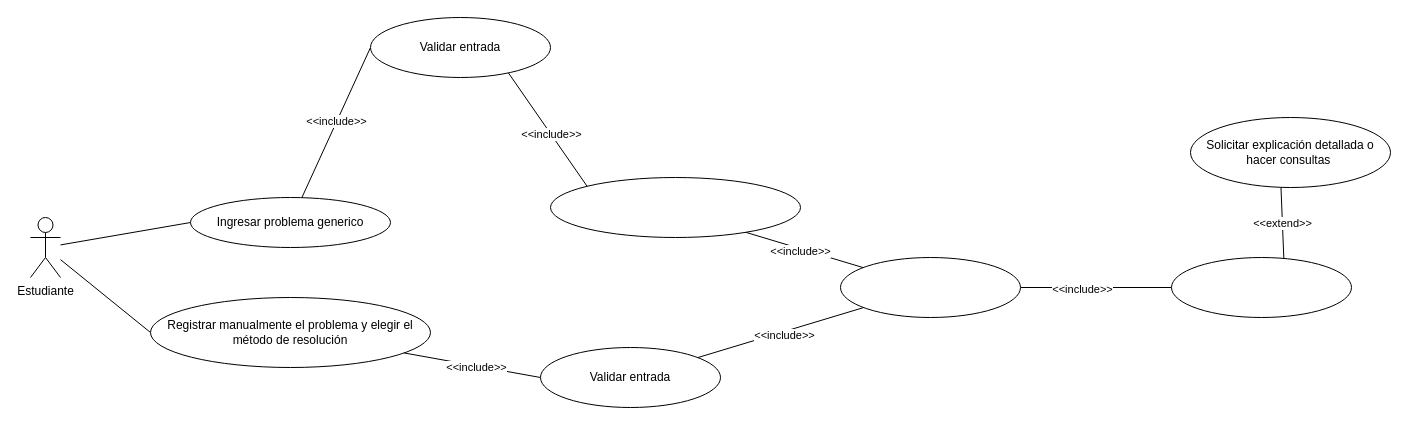
Some shapes in this 1408 by 425 pixel diagram are drawn without their labels. The shapes that lost their labels are listed below. From the top down, each one's box as (x1, y1, x2, y2) in pixels, then its label:
(550, 176, 800, 238): Procesar semánticamente el enunciado del problema y sugerir método de solución
(840, 256, 1020, 318): Solucionar problema
(1170, 256, 1352, 318): Visualizar resultados
